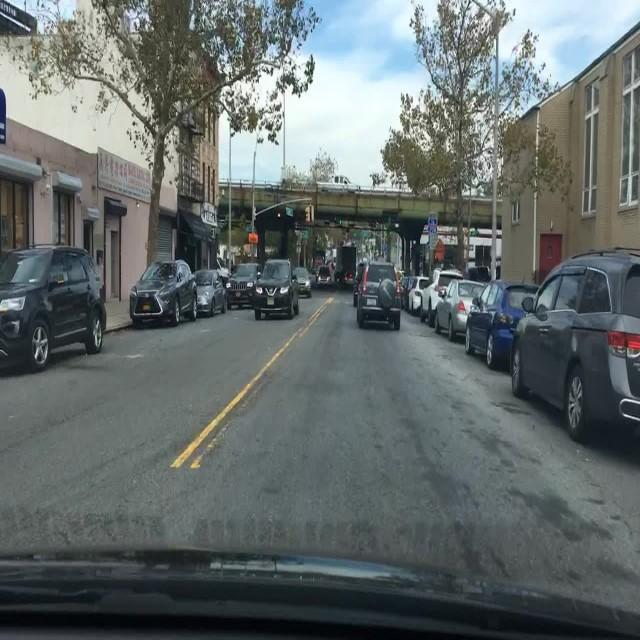normal: (463, 240, 640, 441), (134, 234, 311, 347), (9, 209, 110, 376), (349, 231, 406, 343)
